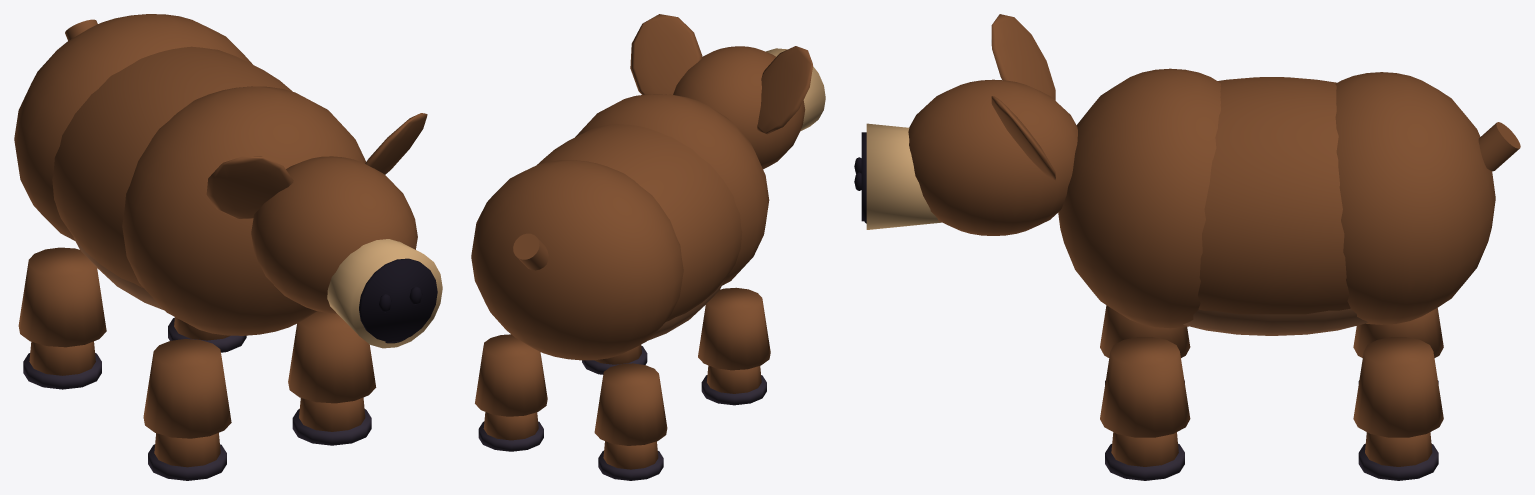
File: bear.glb
3 renders of one model, left to right at view 1: azimuth 30°, elevation 25°; view 2: azimuth 150°, elevation 25°; view 3: azimuth 270°, elevation 25°, orthographic. The views are drawn at different scales.
Parts seen in each view (by area): view 1: body, head, legFR, legBR, legFL, earR, earL, legBL; view 2: body, head, legBR, legFR, legBL, earL, earR, tail, legFL; view 3: body, head, legBL, legFL, earR, legBR, legFR, earL, tail.
Part boxes in pixels (x1,y1,x2,y2): body: [14, 14, 365, 335]; head: [251, 156, 442, 348]; legFR: [143, 339, 231, 480]; legBR: [18, 247, 106, 389]; legFL: [288, 311, 376, 445]; earR: [206, 156, 293, 218]; earL: [365, 113, 427, 174]; legBL: [168, 317, 246, 352]; body: [471, 94, 769, 360]; head: [673, 46, 825, 169]; legBR: [594, 363, 667, 480]; legFR: [698, 287, 770, 405]; legBL: [475, 334, 547, 451]; earL: [630, 14, 702, 94]; earR: [757, 46, 812, 134]; tail: [513, 233, 548, 270]; legFL: [582, 344, 647, 374]; body: [1058, 68, 1495, 335]; head: [854, 79, 1077, 235]; legBL: [1353, 337, 1443, 480]; legFL: [1100, 337, 1190, 480]; earR: [991, 14, 1055, 100]; legBR: [1353, 308, 1443, 383]; legFR: [1100, 305, 1190, 384]; earL: [991, 96, 1055, 180]; tail: [1478, 122, 1520, 171].
Size of the model in its own units: 1.1 by 1.64 by 2.68.
